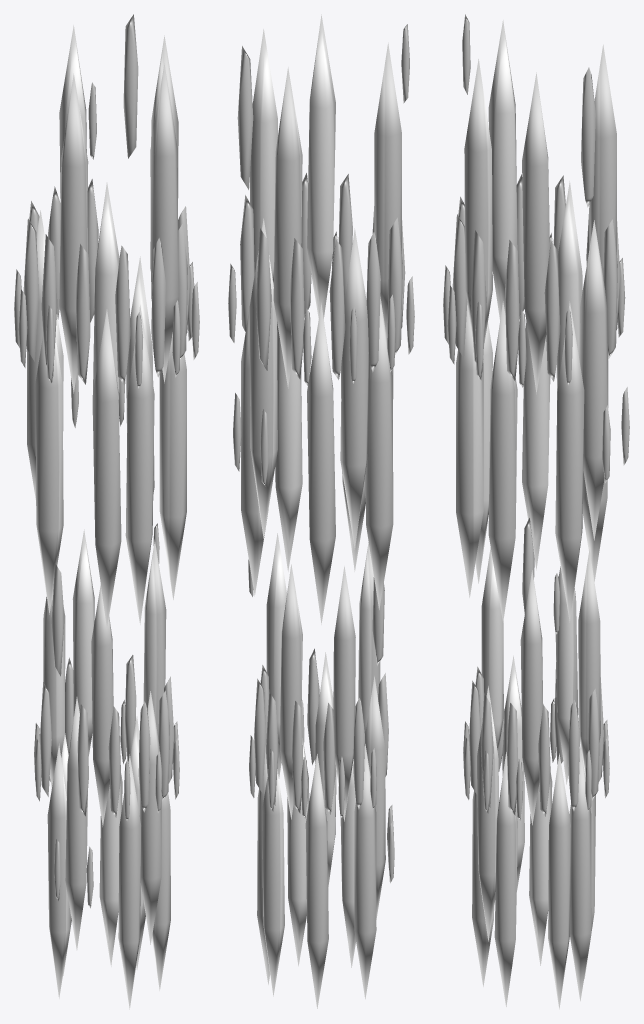
Rendered from explosion_smoke.glb.
3 views of the same model, side by side, from view 1: azimuth 30°, elevation 25°; view 2: azimuth 150°, elevation 25°; view 3: azimuth 270°, elevation 25° (orthographic).
Visible parts, largest first — view 1: explosion_smoke; view 2: explosion_smoke; view 3: explosion_smoke.
Boxes of the visible parts, bbox=[...] form: explosion_smoke: bbox=[14, 14, 199, 1009]; explosion_smoke: bbox=[228, 14, 414, 1008]; explosion_smoke: bbox=[443, 14, 629, 1009].
Bounding box in the file's own units: 0.3418 × 1.92 × 0.3418.
Materials: 1 (1 with a texture image).
